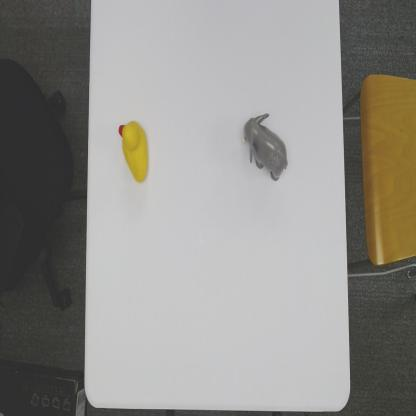Duck: (117, 119, 150, 185)
Elephant: (242, 111, 289, 183)
